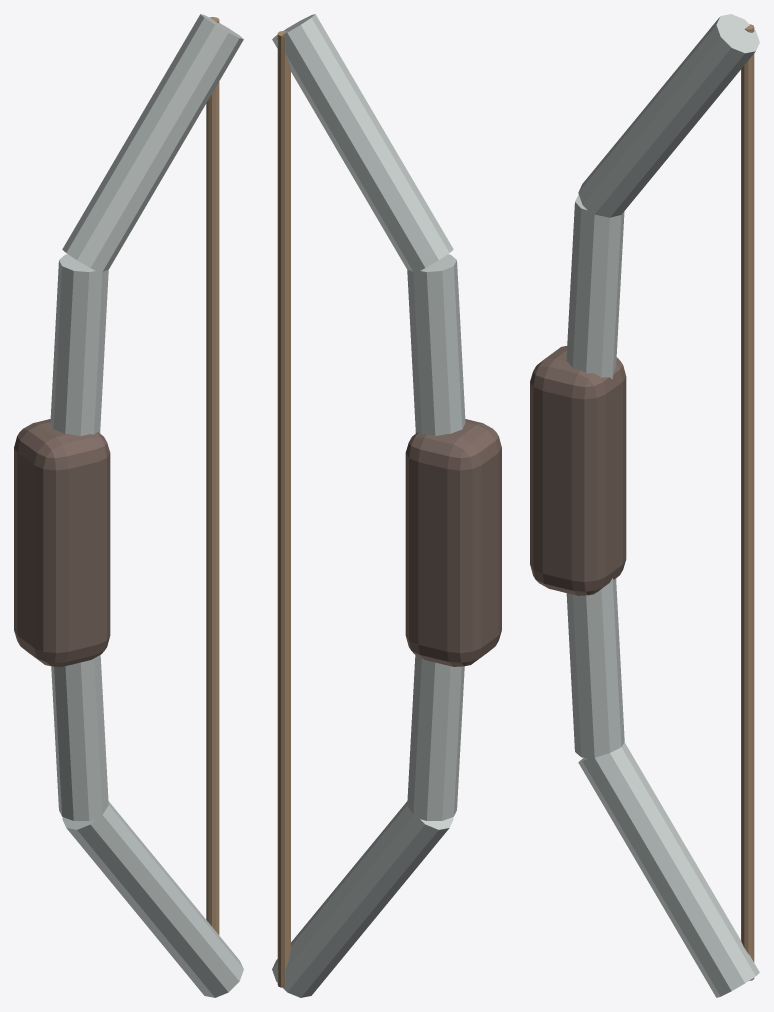
File: hunter-bow.glb
3 views of the same model, side by side, from view 1: azimuth 30°, elevation 25°; view 2: azimuth 150°, elevation 25°; view 3: azimuth 330°, elevation 25° (orthographic).
Parts seen in each view (by area): view 1: BowGrip, BowLimb_3, BowString, BowLimb_0, BowLimb_2, BowLimb_1; view 2: BowGrip, BowLimb_3, BowString, BowLimb_0, BowLimb_2, BowLimb_1; view 3: BowGrip, BowLimb_0, BowString, BowLimb_3, BowLimb_1, BowLimb_2.
Part boxes in pixels (x1=…): BowGrip: x1=14, y1=419, x2=110, y2=666; BowLimb_3: x1=62, y1=14, x2=243, y2=272; BowString: x1=206, y1=17, x2=219, y2=934; BowLimb_0: x1=62, y1=801, x2=243, y2=997; BowLimb_2: x1=50, y1=254, x2=108, y2=436; BowLimb_1: x1=51, y1=655, x2=108, y2=820; BowGrip: x1=405, y1=419, x2=501, y2=666; BowLimb_3: x1=272, y1=14, x2=453, y2=272; BowString: x1=277, y1=30, x2=290, y2=987; BowLimb_0: x1=272, y1=801, x2=453, y2=997; BowLimb_2: x1=407, y1=254, x2=465, y2=436; BowLimb_1: x1=407, y1=655, x2=464, y2=820; BowGrip: x1=530, y1=346, x2=626, y2=595; BowLimb_0: x1=578, y1=742, x2=759, y2=997; BowString: x1=741, y1=24, x2=754, y2=980; BowLimb_3: x1=578, y1=14, x2=759, y2=217; BowLimb_1: x1=566, y1=578, x2=624, y2=759; BowLimb_2: x1=566, y1=195, x2=624, y2=379.
Size of the model in its own units: 0.5888 by 2.57 by 0.2.
